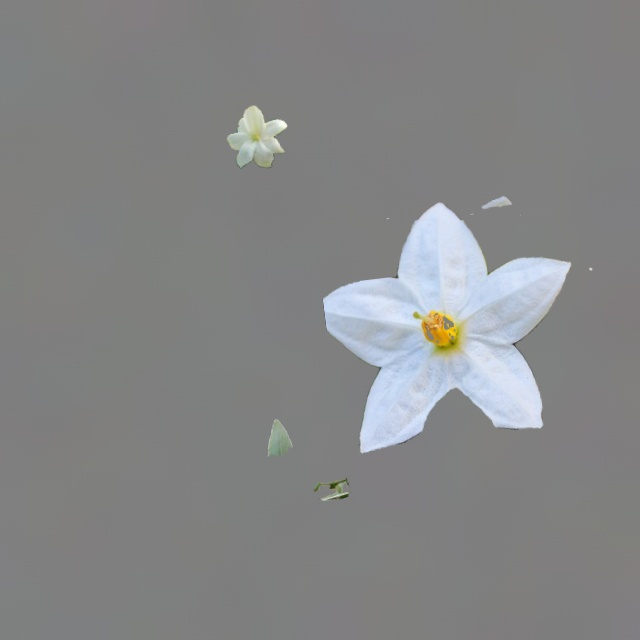jasmine: (323, 196, 591, 452), (227, 106, 287, 167)
passion flower: (314, 478, 348, 500)
ylang-ylang: (268, 420, 292, 455)
